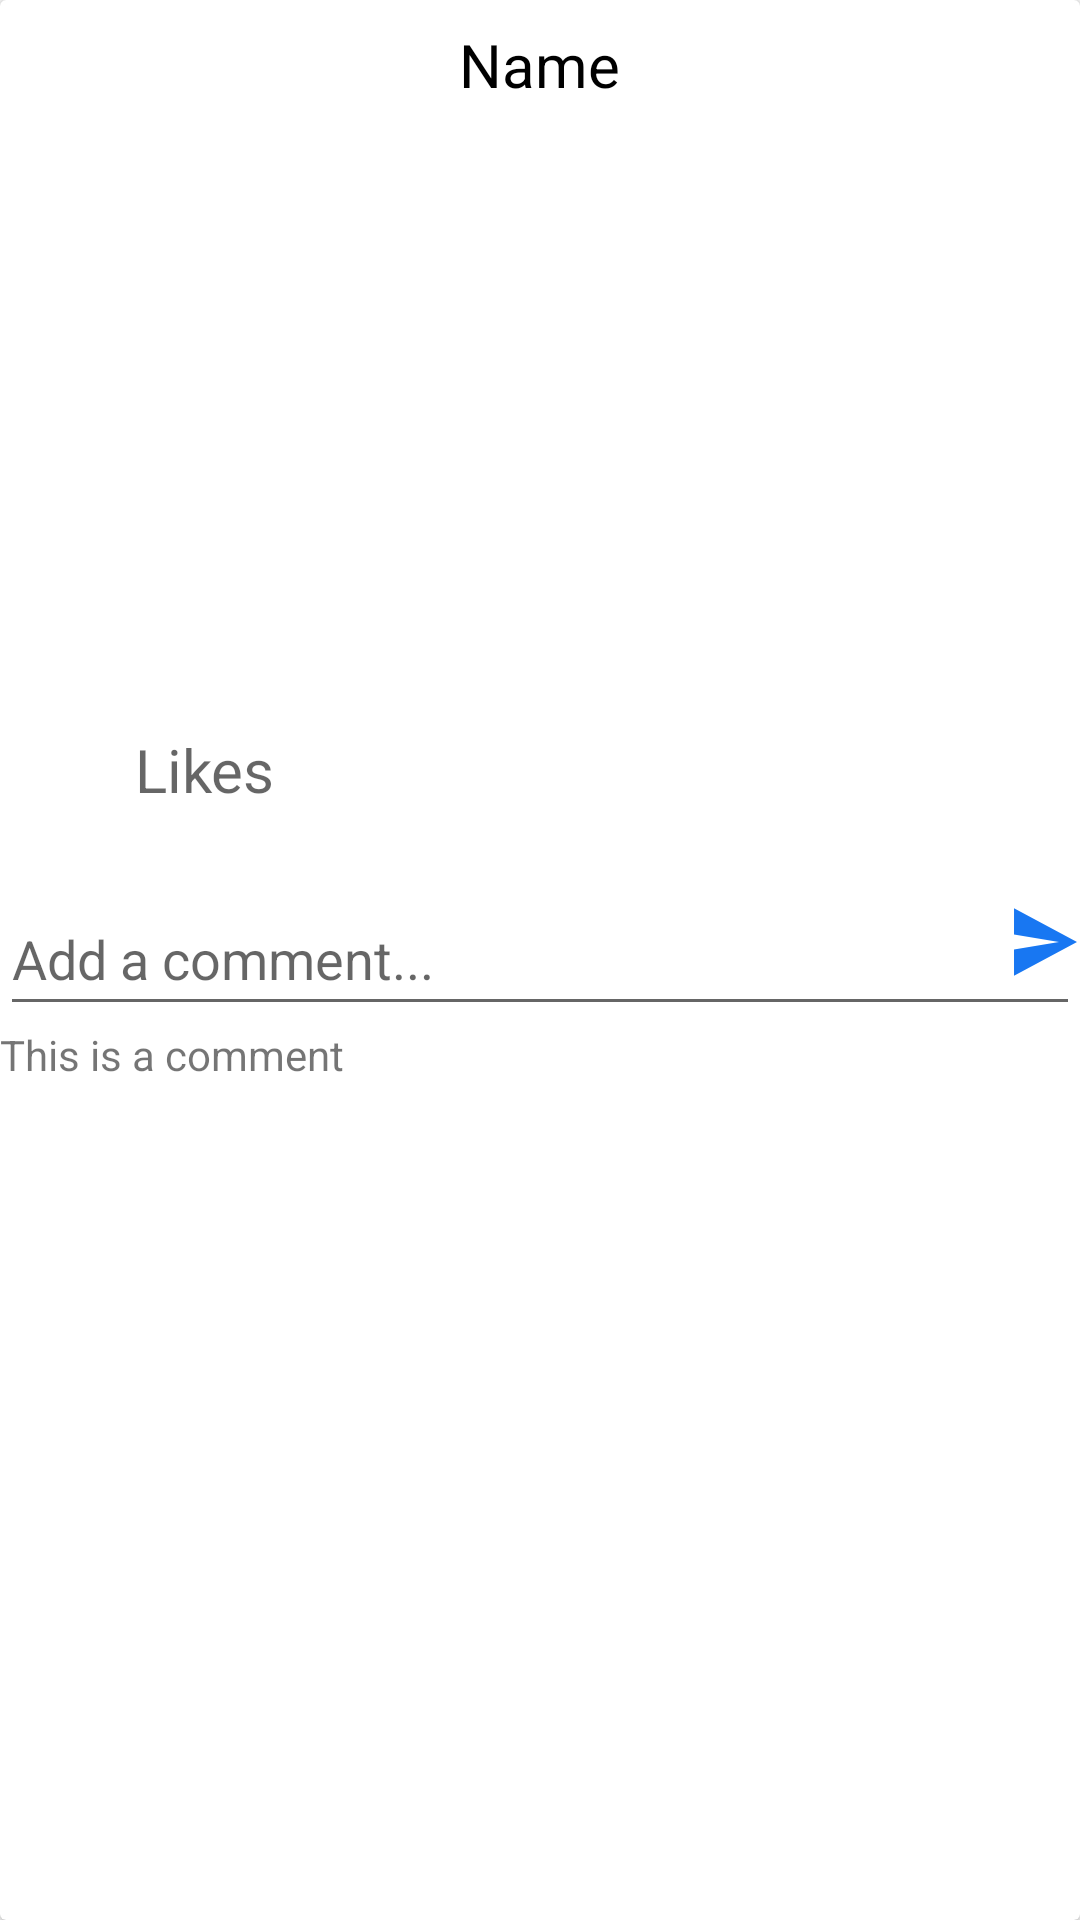

Icon bounding boxes for this 1080x1920 phone screenshot, format BBox(x1, y1, x2, y2):
send: BBox(1014, 908, 1077, 976)
